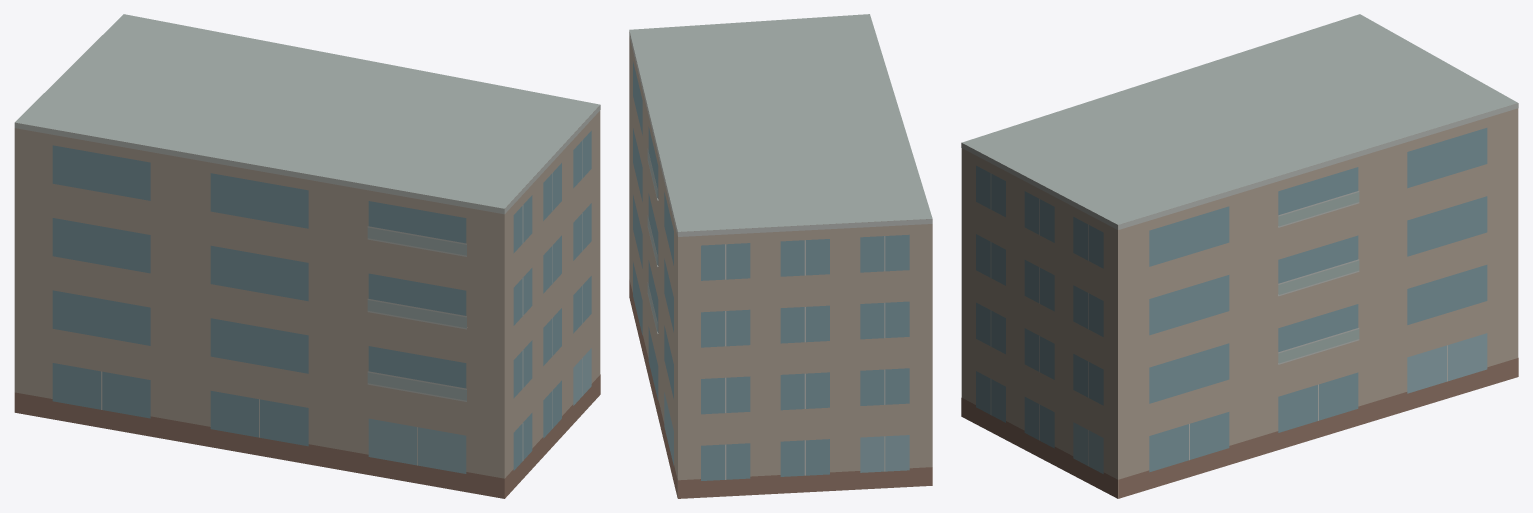
The model's file is survey-upis-32993258.glb.
3 renders of one model, left to right at view 1: azimuth 30°, elevation 25°; view 2: azimuth 150°, elevation 25°; view 3: azimuth 270°, elevation 25°, orthographic. The views are drawn at different scales.
Visible parts, largest first — view 1: survey-upis-32993258.tmp; view 2: survey-upis-32993258.tmp; view 3: survey-upis-32993258.tmp.
Part boxes in pixels (x1,y1,x2,y2): survey-upis-32993258.tmp: [14, 14, 600, 498]; survey-upis-32993258.tmp: [629, 14, 932, 498]; survey-upis-32993258.tmp: [961, 14, 1518, 498].
Bounding box in the file's own units: 21.06 × 12.75 × 23.5.
